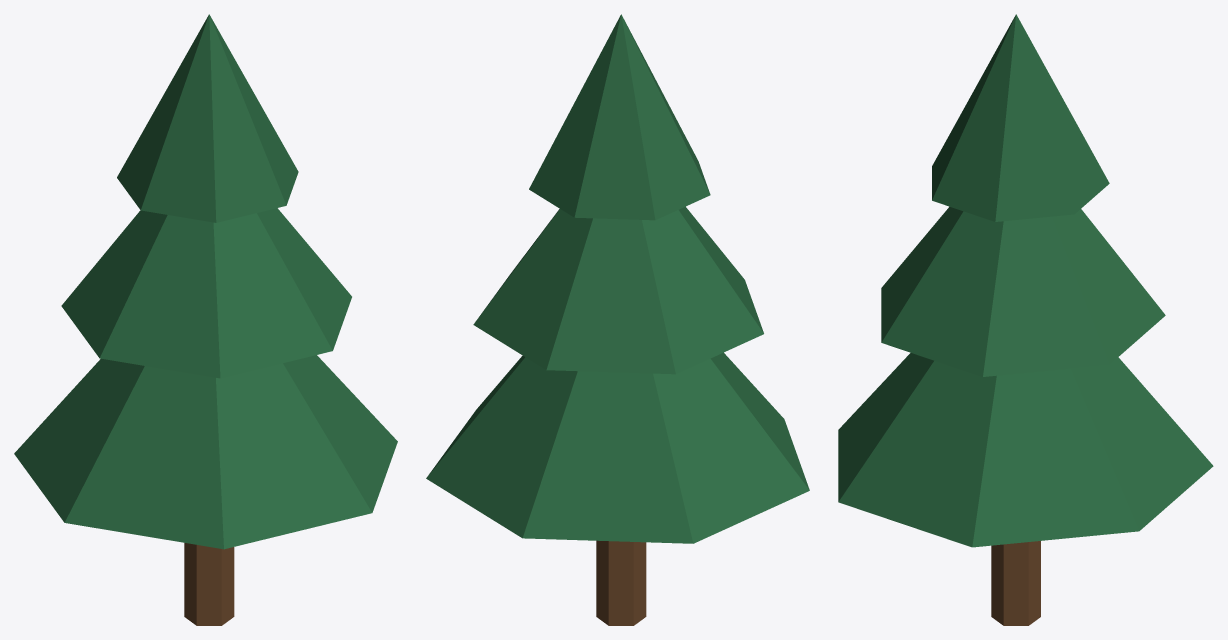
File: tree_cone.fbx
The picture shows the model from 3 angles, left to right: view 1: azimuth 30°, elevation 25°; view 2: azimuth 150°, elevation 25°; view 3: azimuth 270°, elevation 25°; orthographic projection.
Parts seen in each view (by area): view 1: tree_cone; view 2: tree_cone; view 3: tree_cone.
Part boxes in pixels (x1,y1,x2,y2): tree_cone: (14,14,397,625); tree_cone: (426,14,809,625); tree_cone: (838,14,1213,625).
Size of the model in its own units: 1.85 by 3.2 by 1.81.
